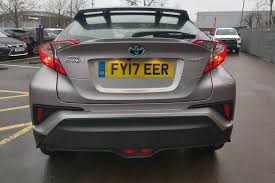licence-plate: (100, 59, 174, 77)
